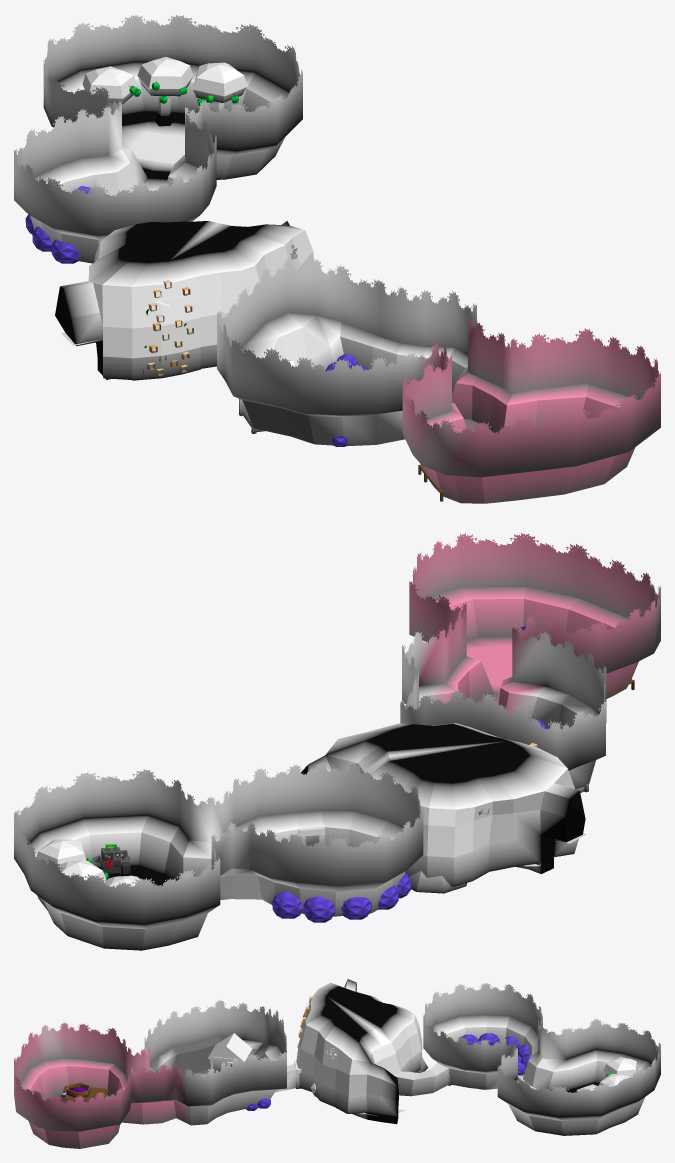
Rendered from fruitigen Island.fbx.
3 renders of one model, top to bottom at view 1: azimuth 30°, elevation 25°; view 2: azimuth 150°, elevation 25°; view 3: azimuth 270°, elevation 25°, orthographic. The views are drawn at different scales.
Parts seen in each view (by area): view 1: island, island.001, apple tree.001, apple tree.002, bush, apple tree; view 2: island, bush, apple tree.002, orange.002, apple tree.001; view 3: island, house, bush, grape barrel.001, apple tree, island.001.
Part boxes in pixels (bbox=[...]): island: bbox=[14, 15, 660, 503]; island.001: bbox=[131, 255, 200, 380]; apple tree.001: bbox=[137, 57, 193, 126]; apple tree.002: bbox=[193, 62, 247, 112]; bush: bbox=[25, 186, 395, 446]; apple tree: bbox=[82, 66, 137, 105]; island: bbox=[14, 533, 660, 950]; bush: bbox=[272, 720, 561, 922]; apple tree.002: bbox=[36, 839, 86, 866]; orange.002: bbox=[409, 871, 466, 893]; apple tree.001: bbox=[59, 859, 106, 883]; island: bbox=[14, 979, 660, 1148]; house: bbox=[208, 1033, 252, 1072]; bush: bbox=[246, 1033, 531, 1110]; grape barrel.001: bbox=[59, 1082, 108, 1101]; apple tree: bbox=[603, 1057, 638, 1078]; island.001: bbox=[302, 989, 330, 1030].
Bounding box in the file's own units: 7472 × 2253 × 16074.
